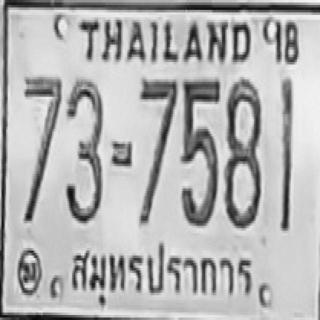N01: (279, 77, 293, 226), (279, 79, 292, 231)
N03: (64, 78, 103, 222)
N05: (180, 77, 220, 226)
N07: (22, 74, 62, 221), (139, 77, 177, 223)
N08: (224, 77, 261, 228)
P57: (67, 237, 257, 305)
